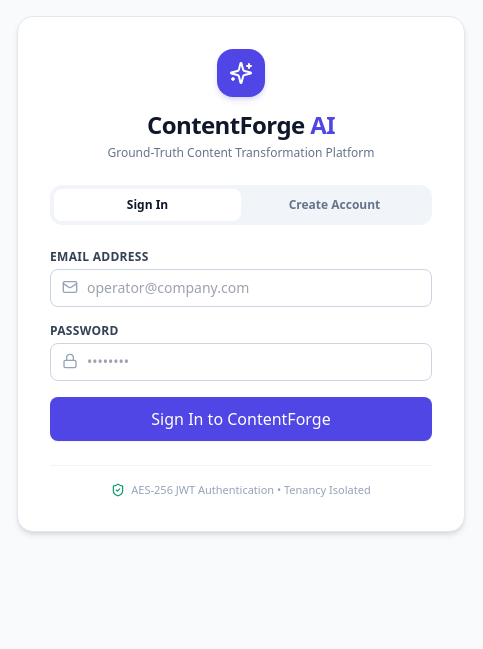
Test: Login Form Component › shows validation error on empty fields
This screenshot has width=483, height=649.
Click the button with test id "auth-submit-btn". click: (241, 419)
box: [50, 397, 432, 441]
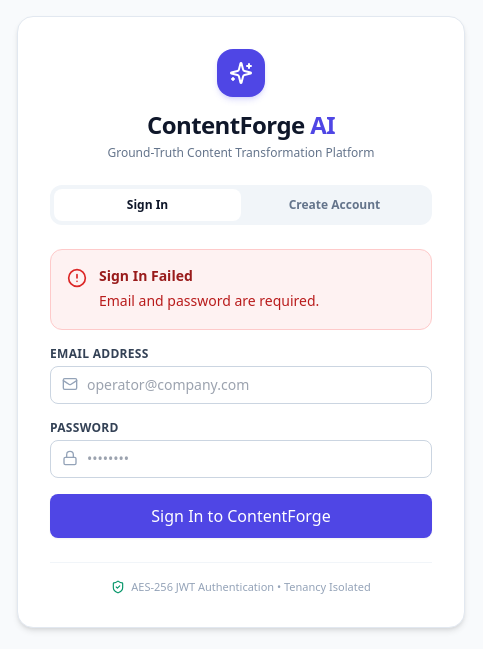
Result: the text "Email and password are required." is shown at [99, 291, 319, 310]
